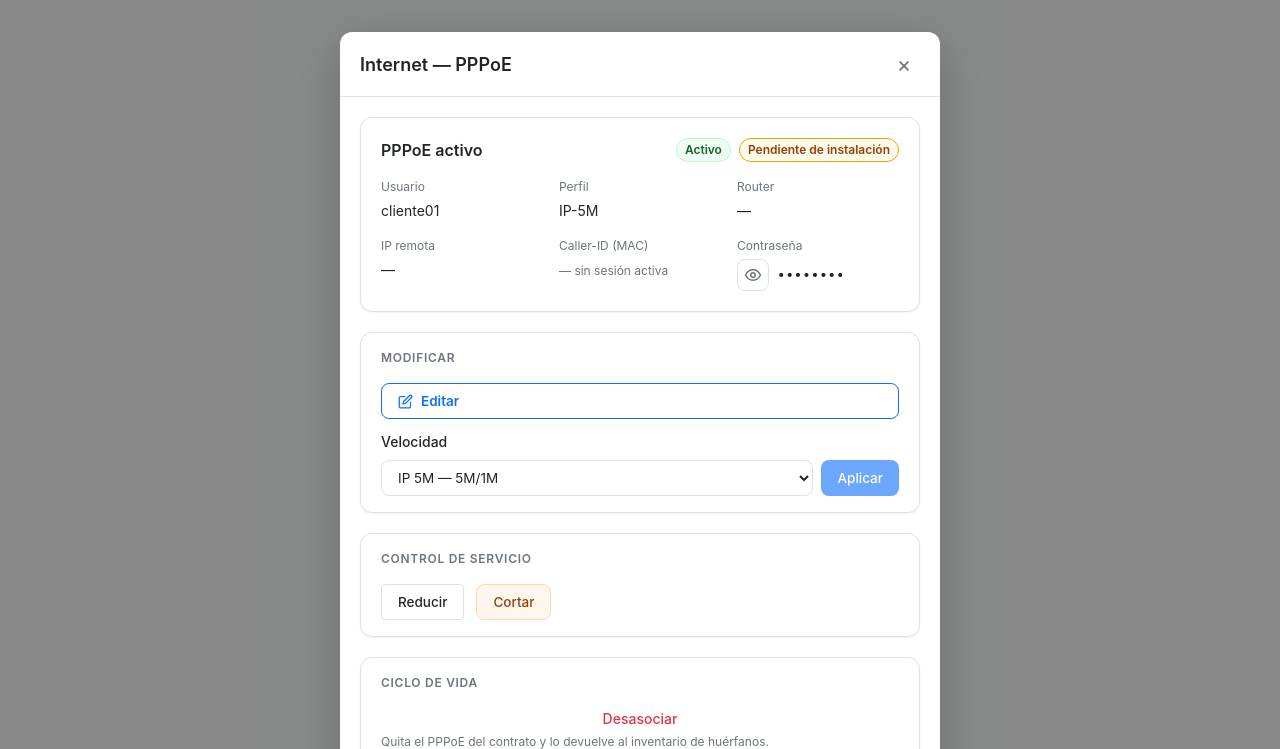
Scenario: W3: adopción manual (pendiente → elegir router en Editar) › 422 NO_FREE_IP del move → mensaje mapeado (pool lleno), NO el genérico
The image size is (1280, 749).
Click the button "Editar": x=440, y=401 381,383 -> 899,419
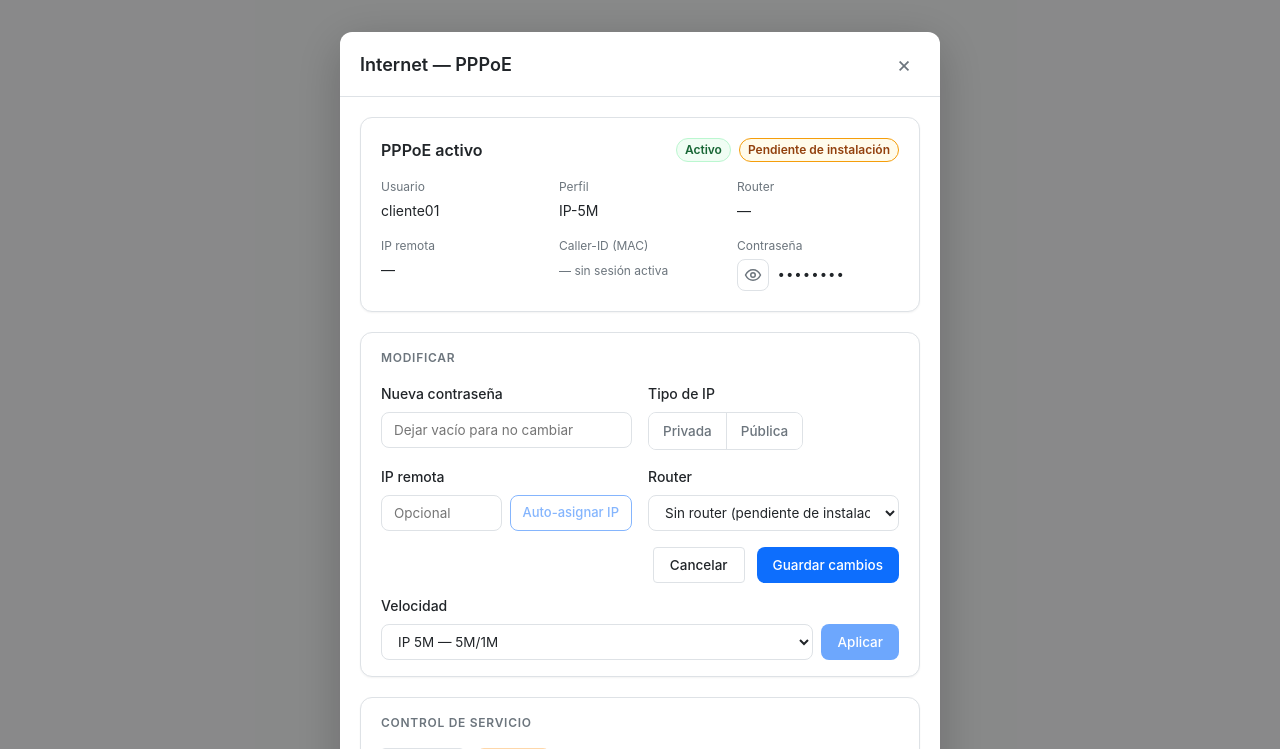
Select "Router Norte" in the dropdown labelled "Router": x=774, y=513 648,495 -> 899,531
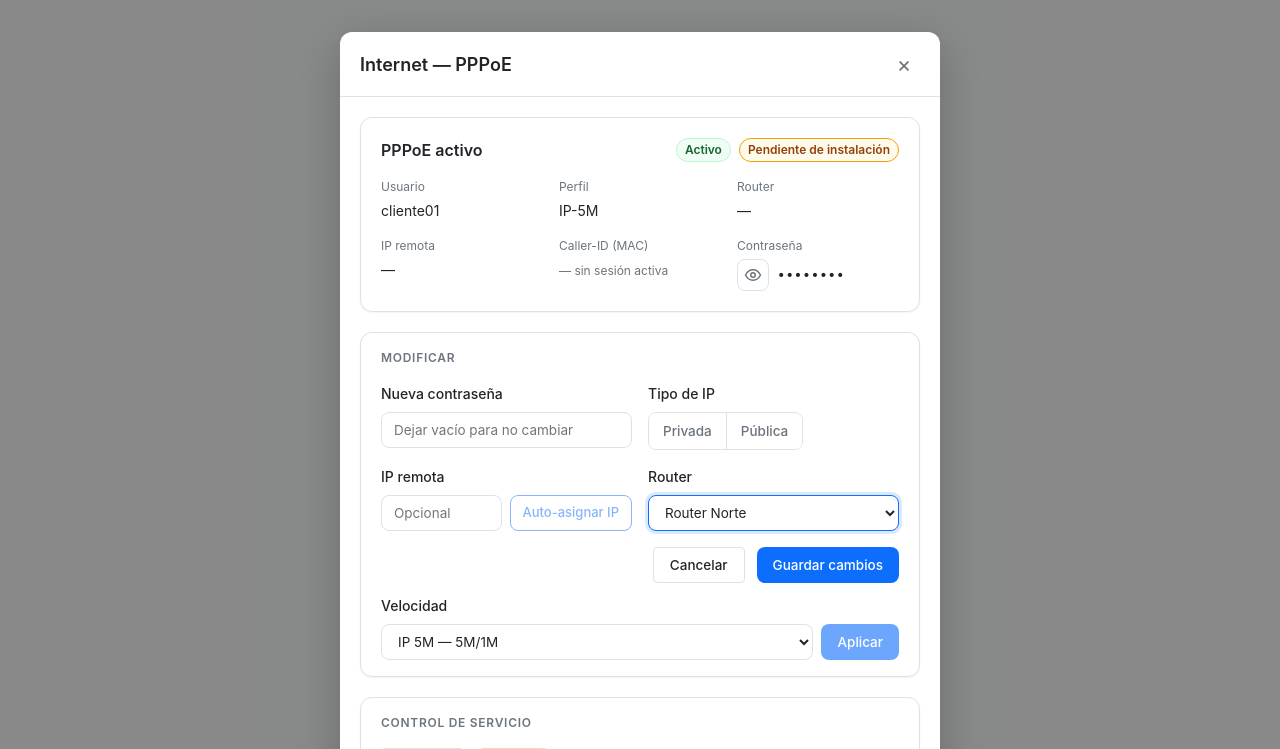
Click the button "Guardar cambios": x=828, y=565 757,547 -> 899,583
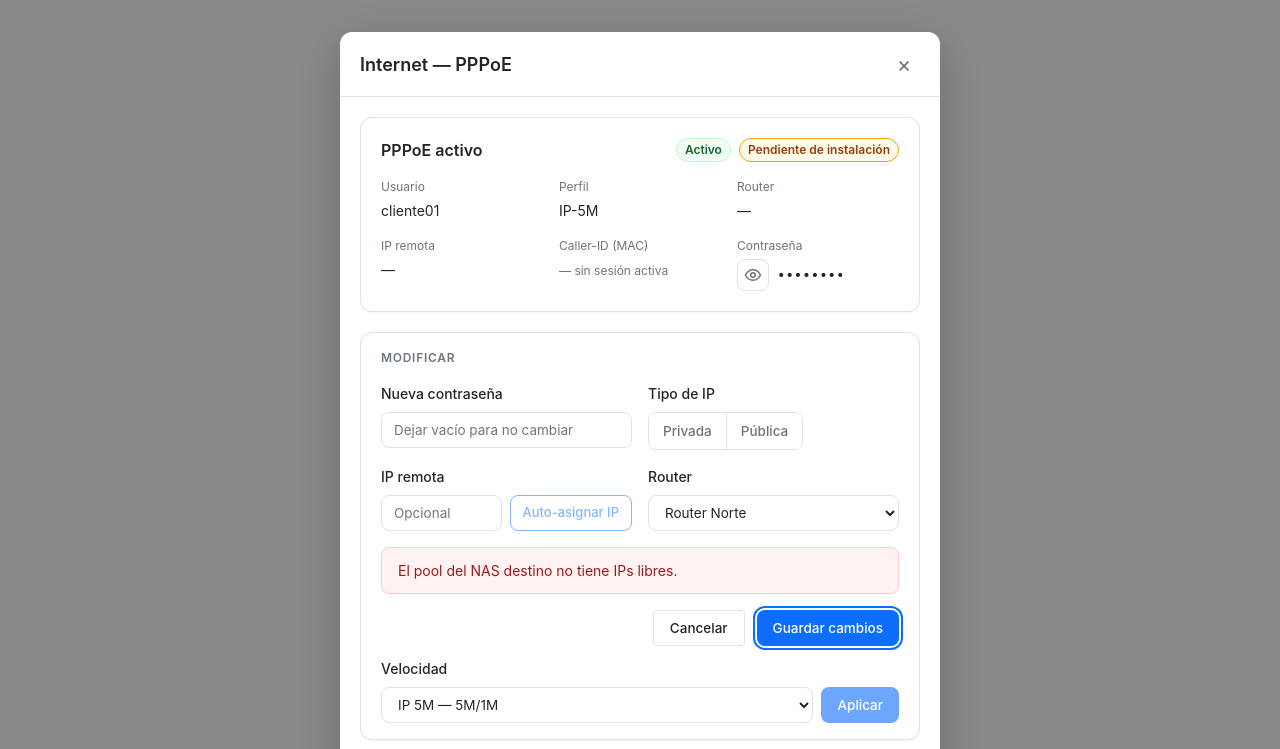
Result: the text "El pool del NAS destino no tiene IPs libres." is shown at 398,560 -> 677,581
